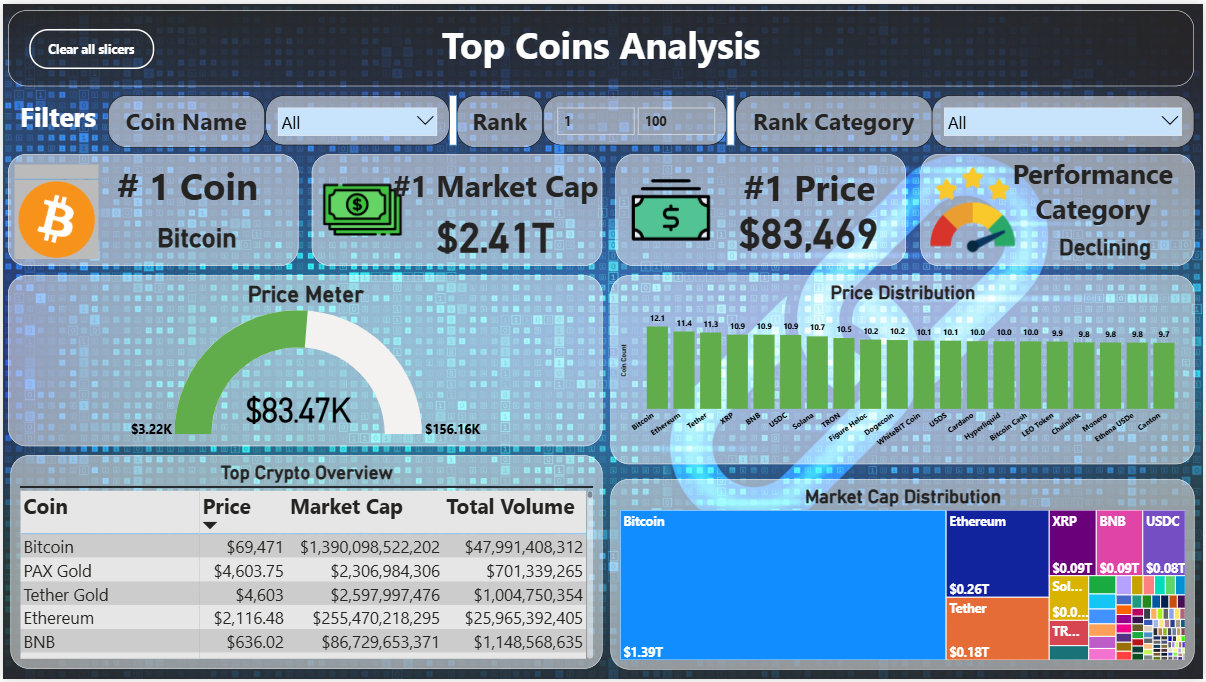

What the dashboard file says about the page in this screenshot:
{"tool":"powerbi","page":{"name":"Top Coins Analysis","canvas":[1920,1080],"ordinal":2},"visuals":[{"type":"textbox","box":[8.2,10.3,1897.8,121.4],"z":0},{"type":"clusteredColumnChart","title":"Price Distribution","fields":{"Y":["Sum(CryptoData.Log Market Cap)"],"Category":["CryptoData.name"]},"box":[971.5,434.3,934.5,302.6],"z":1000},{"type":"textbox","box":[168.8,146.1,251.1,84.4],"z":2000},{"type":"textbox","box":[22.6,146.1,170.8,80.3],"z":3000},{"type":"textbox","box":[1171.2,146.1,314.9,84.4],"z":4000},{"type":"textbox","box":[726.6,146.1,137.9,84.4],"z":5000},{"type":"slicer","title":"Price Distribution","fields":{"Values":["CryptoData.market_cap_rank"]},"box":[864.5,146.1,294.3,80.3],"z":6000},{"type":"shape","box":[714.2,146.1,12.3,80.3],"z":7000},{"type":"shape","box":[1158.8,146.1,12.3,80.3],"z":8000},{"type":"slicer","title":"Price Distribution","fields":{"Values":["CryptoData.Rank Category"]},"box":[1486.1,146.1,419.9,84.4],"z":9000},{"type":"actionButton","box":[8.2,240.8,465.2,179.1],"z":10000},{"type":"actionButton","box":[494,240.8,465.2,179.1],"z":11000},{"type":"actionButton","box":[979.8,240.8,465.2,179.1],"z":12000},{"type":"actionButton","box":[1467.6,240.8,438.4,179.1],"z":13000},{"type":"card","fields":{"Values":["Min(CryptoData.Performance Category)"]},"box":[1605.5,341.7,314.9,88.5],"z":14000},{"type":"card","fields":{"Values":["Sum(CryptoData.current_price)"]},"box":[1156.8,310.8,265.5,98.8],"z":15000},{"type":"card","fields":{"Values":["Sum(CryptoData.market_cap)"]},"box":[648.4,325.2,279.9,78.2],"z":16000},{"type":"textbox","box":[113.2,247,362.3,98.8],"z":17000},{"type":"textbox","box":[601,251.1,372.6,90.6],"z":18000},{"type":"textbox","box":[1582.9,236.7,323.2,144.1],"z":19000},{"type":"textbox","box":[1111.5,249.1,356.1,94.7],"z":20000},{"type":"tableEx","fields":{"Values":["Min(CryptoData.image)"]},"box":[12.3,251.1,156.4,168.8],"z":21000},{"type":"gauge","title":"Price Meter","fields":{"Y":["Sum(CryptoData.current_price)"],"MinValue":["Sum(CryptoData.atl)"],"MaxValue":["Sum(CryptoData.ath)"]},"box":[8.2,434.3,950.9,273.8],"z":22000},{"type":"slicer","title":"Price Distribution","fields":{"Values":["CryptoData.name"]},"box":[419.9,146.1,294.3,80.3],"z":23000},{"type":"card","fields":{"Values":["All Measures.Top Coin Name (Filtered by Rank)"]},"box":[146.1,325.2,329.3,86.4],"z":24000},{"type":"treemap","title":"Market Cap Distribution","fields":{"Group":["CryptoData.name"],"Values":["Sum(CryptoData.market_cap)"]},"box":[971.5,759.5,934.5,304.6],"z":25000},{"type":"tableEx","title":"Top Crypto Overview","fields":{"Values":["CryptoData.name","CryptoData.current_price","Sum(CryptoData.market_cap)","CryptoData.total_volume"]},"box":[12.3,722.5,946.8,341.7],"z":26000},{"type":"actionButton","box":[41.2,39.1,199.7,63.8],"z":27000}]}

Visuals, with their boxes in screenshot pixels (x1, y1, x2, y2), scaled from the page's 1920x1080 canvas onto the 1206x682 screenshot:
textbox: region(5, 7, 1197, 83)
"Price Distribution" clusteredColumnChart: region(610, 274, 1197, 465)
textbox: region(106, 92, 264, 146)
textbox: region(14, 92, 121, 143)
textbox: region(736, 92, 933, 146)
textbox: region(456, 92, 543, 146)
"Price Distribution" slicer: region(543, 92, 728, 143)
shape: region(449, 92, 456, 143)
shape: region(728, 92, 736, 143)
"Price Distribution" slicer: region(933, 92, 1197, 146)
actionButton: region(5, 152, 297, 265)
actionButton: region(310, 152, 602, 265)
actionButton: region(615, 152, 908, 265)
actionButton: region(922, 152, 1197, 265)
card - Min(CryptoData.Performance Category): region(1008, 216, 1205, 272)
card - Sum(CryptoData.current_price): region(727, 196, 893, 259)
card - Sum(CryptoData.market_cap): region(407, 205, 583, 255)
textbox: region(71, 156, 299, 218)
textbox: region(378, 159, 612, 216)
textbox: region(994, 149, 1197, 240)
textbox: region(698, 157, 922, 217)
tableEx - Min(CryptoData.image): region(8, 159, 106, 265)
"Price Meter" gauge: region(5, 274, 602, 447)
"Price Distribution" slicer: region(264, 92, 449, 143)
card - All Measures.Top Coin Name (Filtered by Rank): region(92, 205, 299, 260)
"Market Cap Distribution" treemap: region(610, 480, 1197, 672)
"Top Crypto Overview" tableEx: region(8, 456, 602, 672)
actionButton: region(26, 25, 151, 65)
